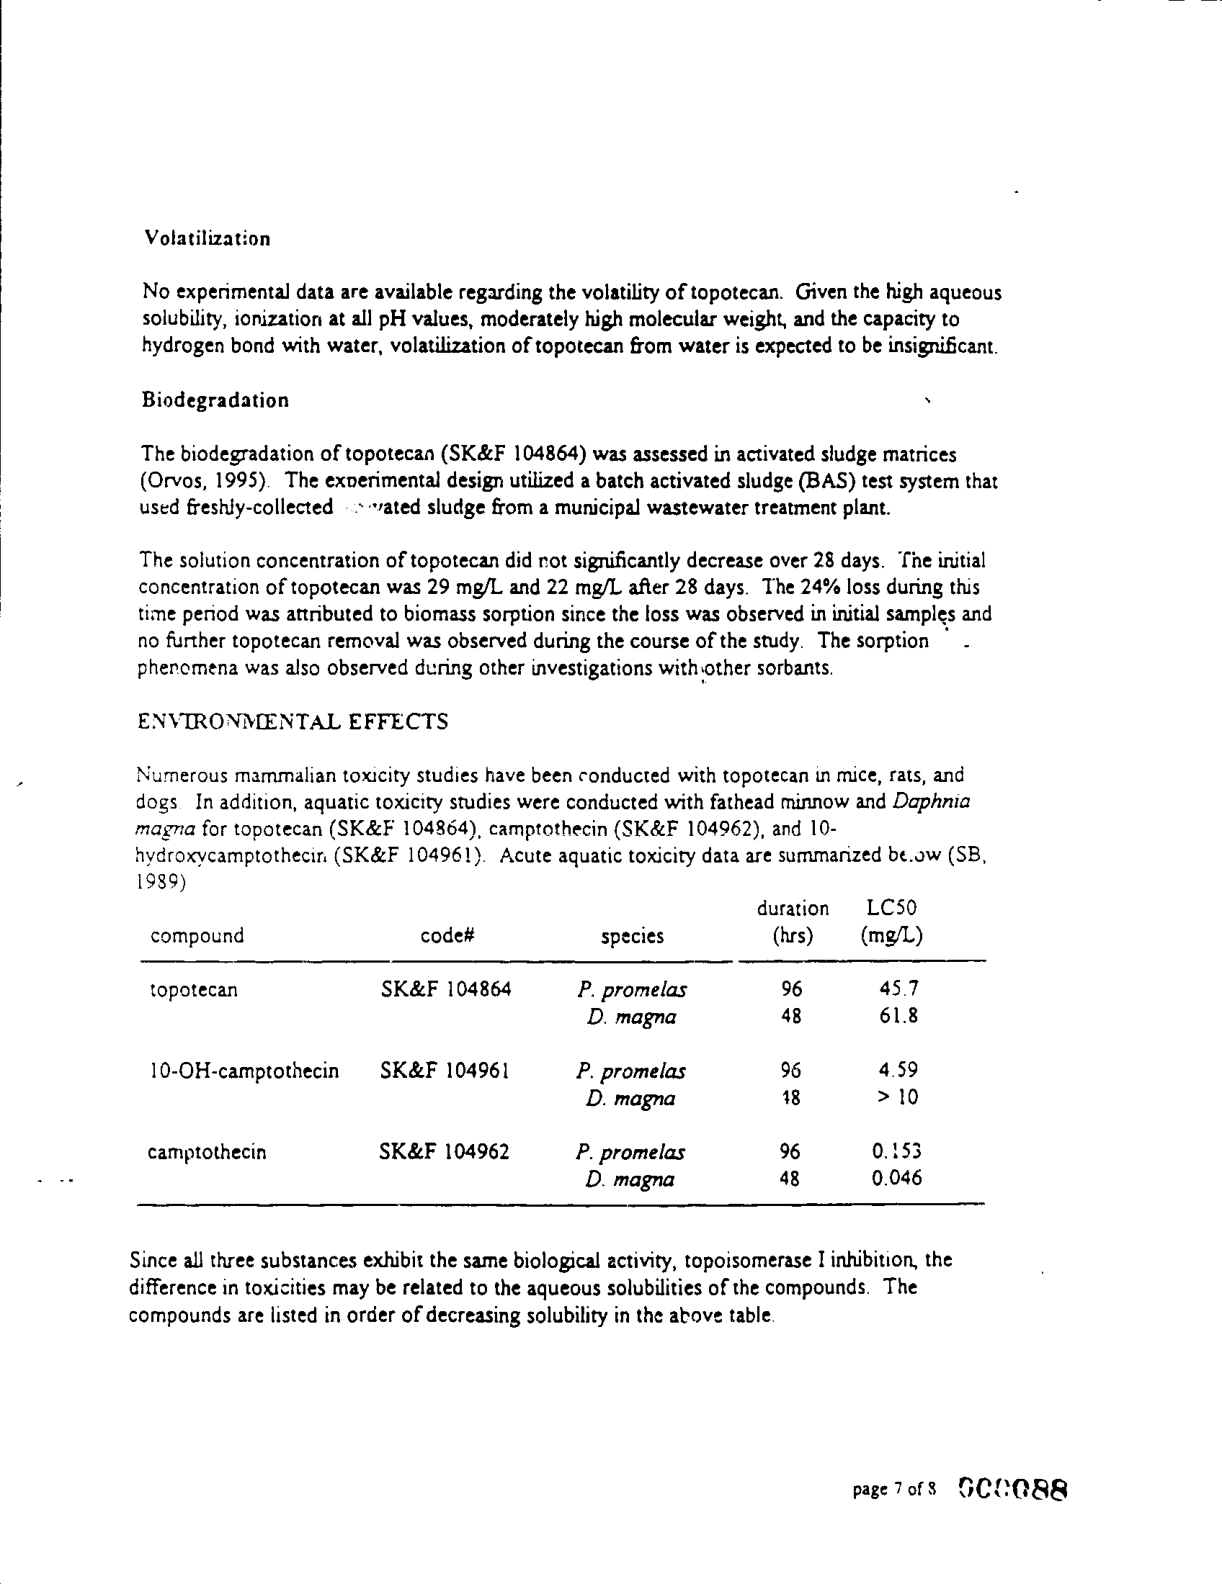partial_lined: (133, 895, 979, 1207)
